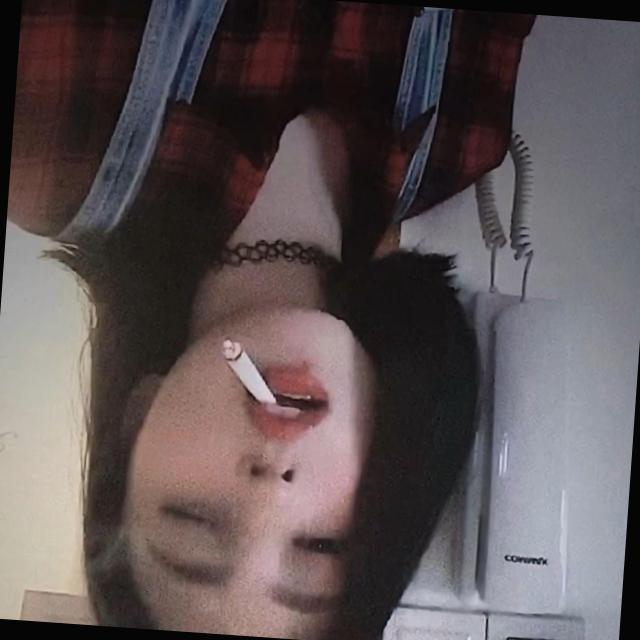smoke: (206, 326, 292, 425)
